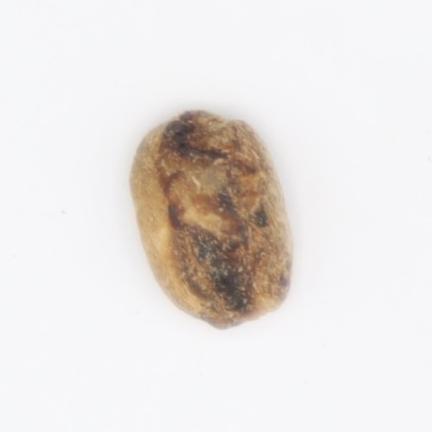partial-black: (131, 111, 290, 327)
